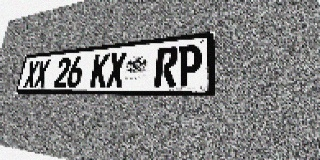2: (53, 57, 72, 88)
6: (66, 56, 85, 88)
K: (90, 53, 110, 87)
P: (177, 44, 202, 87)
R: (154, 46, 178, 87)
X: (106, 52, 127, 87), (33, 59, 51, 88), (23, 60, 40, 88)
